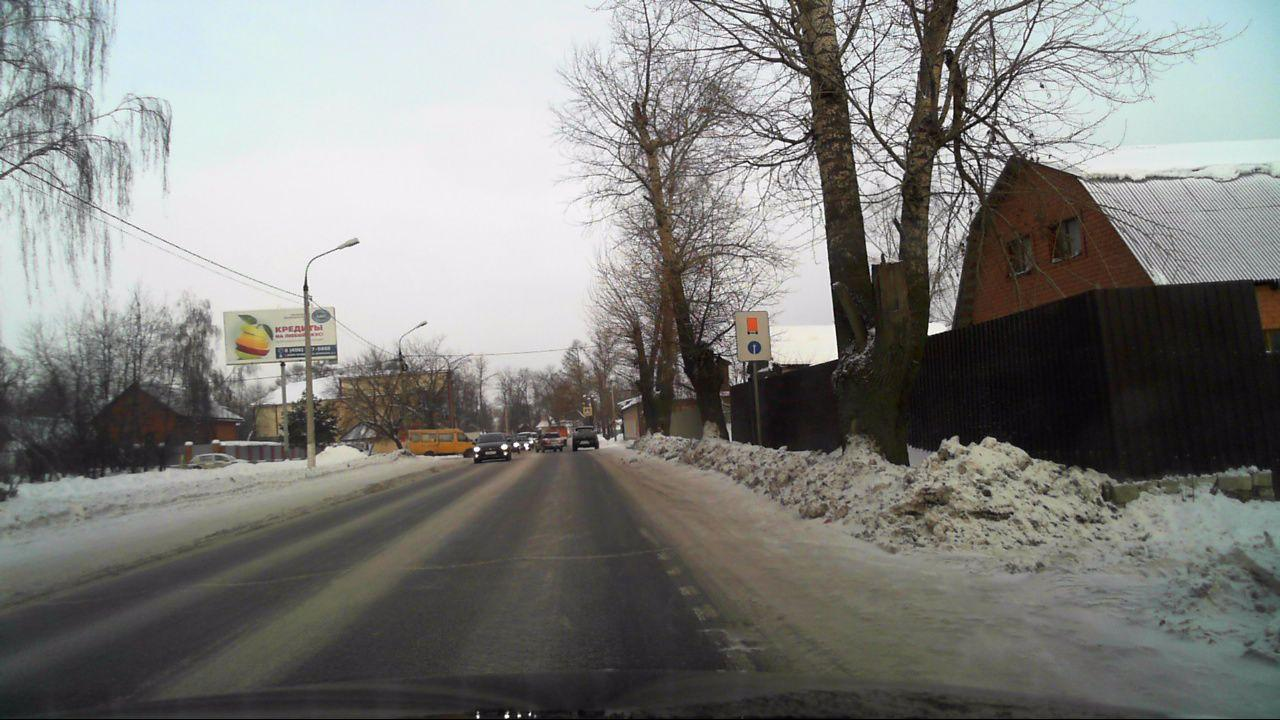4_8_1: (734, 310, 770, 361)
